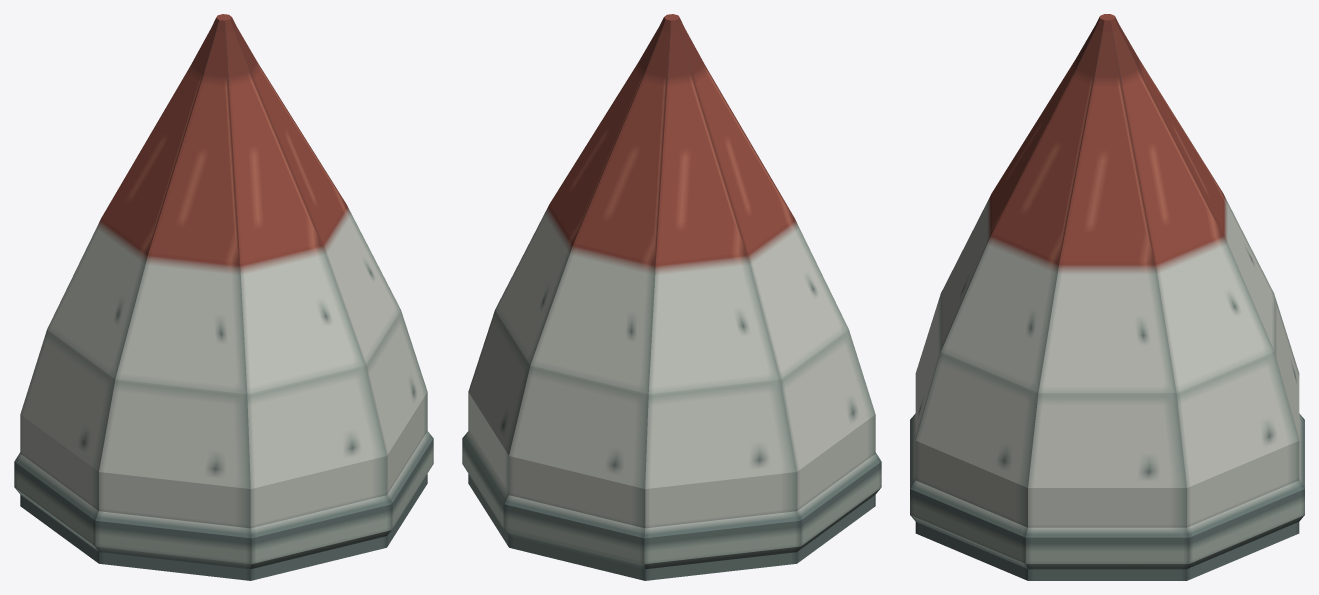
Rendered from rocket_cone_tier_1.obj.
3 views of the same model, side by side, from view 1: azimuth 30°, elevation 25°; view 2: azimuth 150°, elevation 25°; view 3: azimuth 270°, elevation 25° (orthographic).
Visible parts, largest first — view 1: Cone; view 2: Cone; view 3: Cone.
Part boxes in pixels (x1,y1,x2,y2): Cone: (14, 14, 433, 580); Cone: (462, 14, 881, 580); Cone: (910, 14, 1304, 580).
Size of the model in its own units: 1.33 by 1.79 by 1.33.
